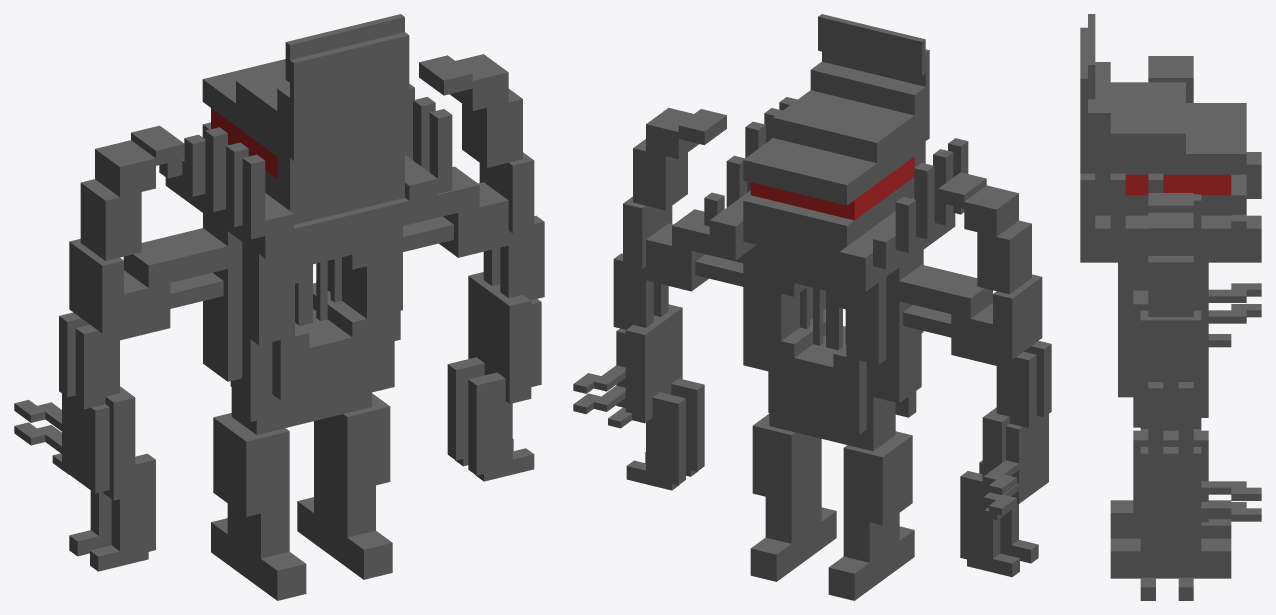
Rendered from mecha.fbx.
3 renders of one model, left to right at view 1: azimuth 30°, elevation 25°; view 2: azimuth 150°, elevation 25°; view 3: azimuth 270°, elevation 25°, orthographic. The views are drawn at different scales.
Parts seen in each view (by area): view 1: head, cube_3, cube_14, cube, cube_37, cube_15, cube_27, cube_26, body_14, cube_32, cube_8, cube_5 (+38 smaller); view 2: head, face_3, face_2, face_1, cube_3, cube_14, cube, body_1, cube_37, cube_26, cube_27, body_5 (+38 smaller); view 3: head, face_2, face_3, cube_17, cube_7, cube_2, cube_8, cube_12, cube_14, face_5, face_1, body_18 (+28 smaller).
Boxes of the visible parts, x1,y1,x2,y2 form: head: (159,14,452,258); cube_3: (213,413,289,516); cube_14: (468,272,531,403); cube: (314,393,390,492); cube_37: (123,228,227,287); cube_15: (468,372,512,475); cube_27: (80,179,141,260); cube_26: (69,239,123,333); body_14: (250,248,294,345); cube_32: (62,393,109,493); cube_8: (462,89,522,167); cube_5: (211,518,306,600); head: (704,14,968,291); face_3: (773,90,914,163); face_2: (743,136,914,205); face_1: (743,177,914,257); cube_3: (843,431,912,524); cube_14: (625,304,682,423); cube: (752,414,821,502); body_1: (866,312,921,403); cube_37: (899,264,992,318); cube_26: (993,274,1042,359); cube_27: (977,220,1031,294); body_5: (749,245,788,340); head: (1080,14,1261,262); face_2: (1110,103,1246,174); face_3: (1110,82,1185,153); cube_17: (1140,447,1201,528); cube_7: (1140,310,1201,381); cube_2: (1110,538,1231,578); cube_8: (1148,256,1193,316); cube_12: (1148,212,1193,255); cube_14: (1133,430,1208,529); face_5: (1125,174,1231,195); face_1: (1103,174,1246,215); body_18: (1118,262,1133,352).
Bounding box in the file's own units: 103 × 117 × 37.5.
2 materials, 2 textured.
